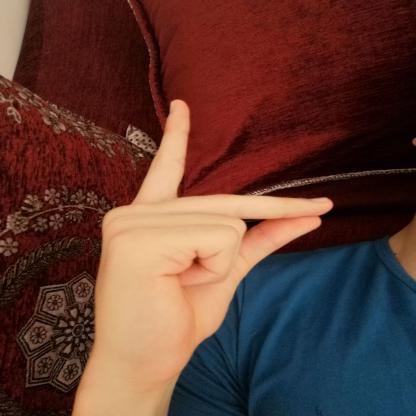TAA: (76, 89, 350, 387)
